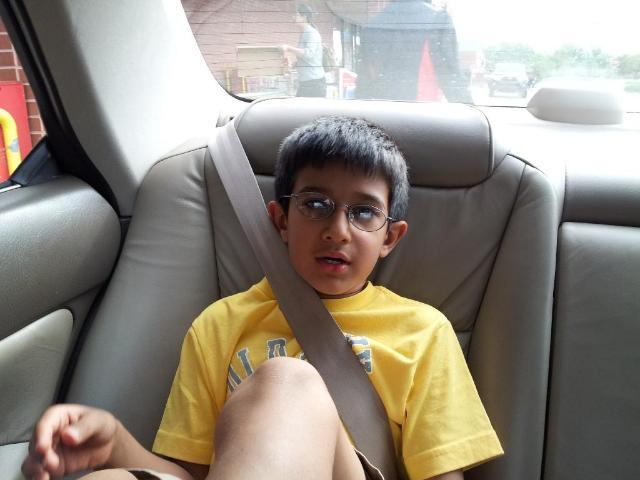SafeDriving: (295, 192, 335, 218), (344, 199, 382, 224)
Seatbelt: (210, 159, 390, 471)
